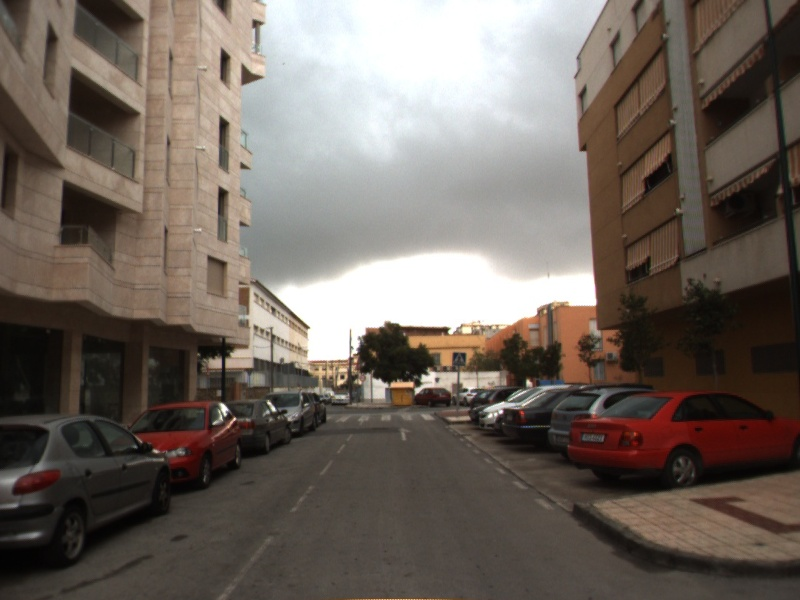STRAIGHT: (395, 425, 414, 443)
